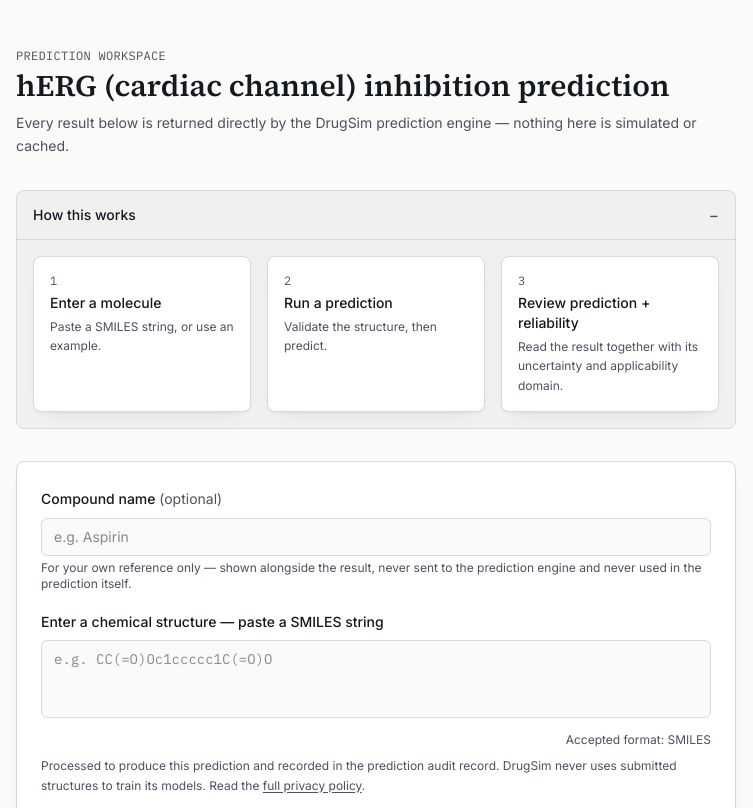
PredictPage › offers JSON and CSV export of the completed result
Type "CC(=O)Oc1ccccc1C(=O)O" into the text box labelled "Enter a chemical structure — paste a SMILES string" at x=376, y=679, box x1=41 y1=640 x2=711 y2=718
(page scrolled)
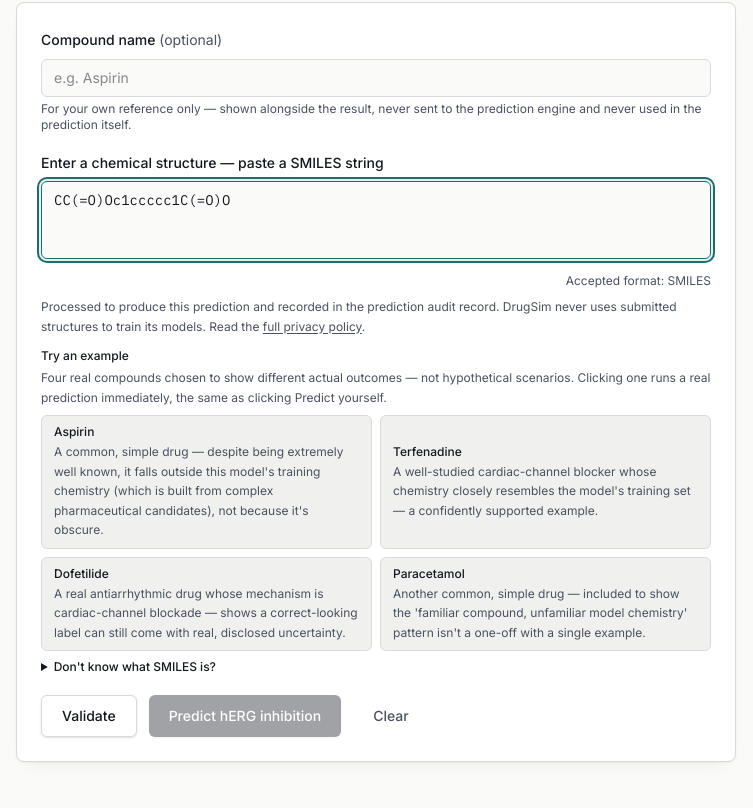
Click the button "Validate" at x=89, y=716, box x1=41 y1=695 x2=137 y2=737
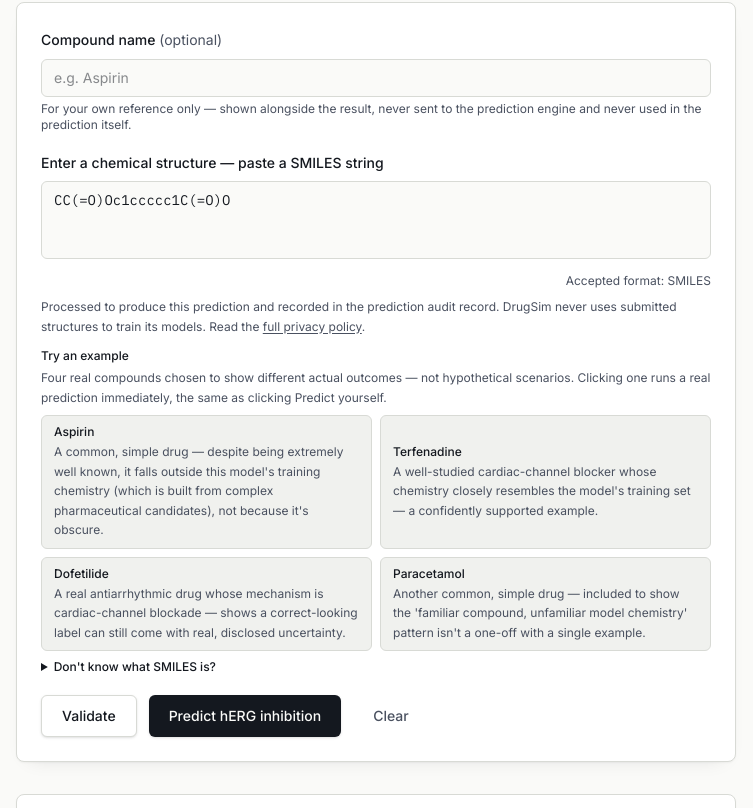
Click the button "Predict hERG inhibition" at x=245, y=716, box x1=149 y1=695 x2=341 y2=737
(page scrolled)
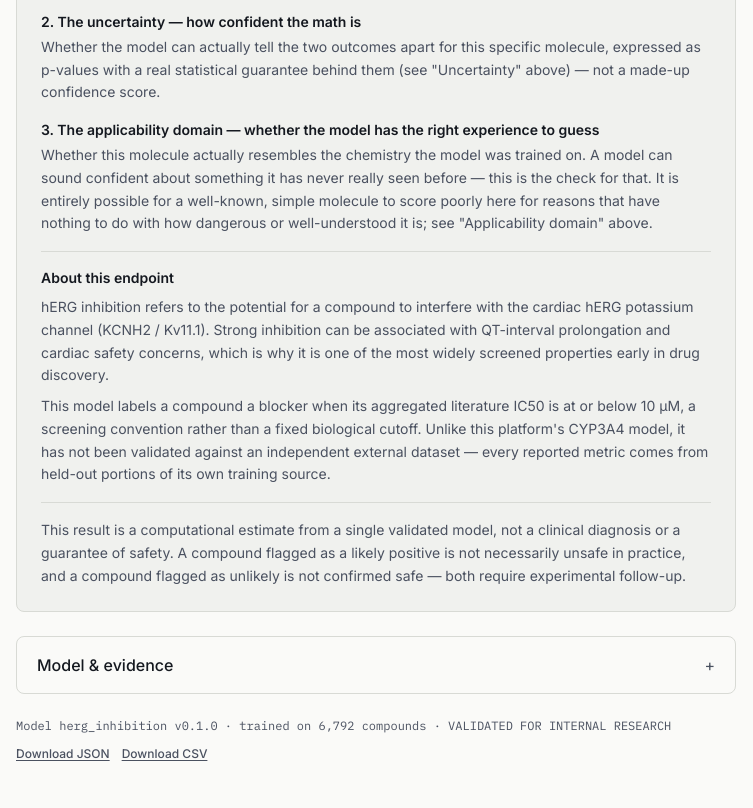
Now the button "Download JSON" is shown, box x1=16 y1=746 x2=110 y2=762
Now the button "Download CSV" is shown, box x1=122 y1=746 x2=207 y2=762
